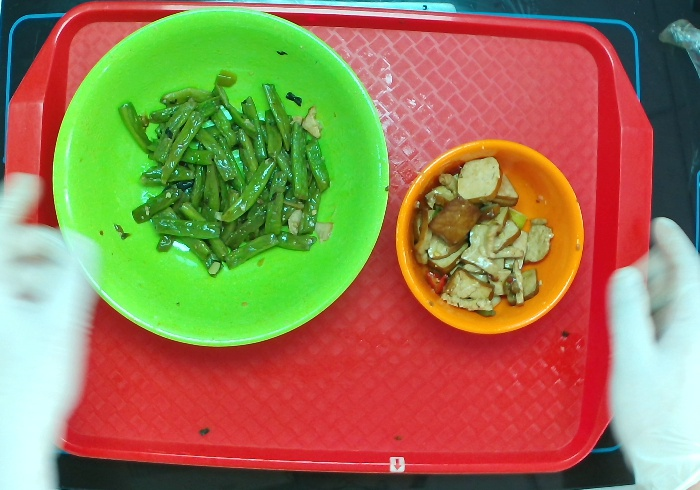YKMZ-Ju_Se_Yuan_Wan: (386, 133, 587, 341)
YKMZ-Lv_Se_Tang_Wan: (47, 2, 392, 355)
